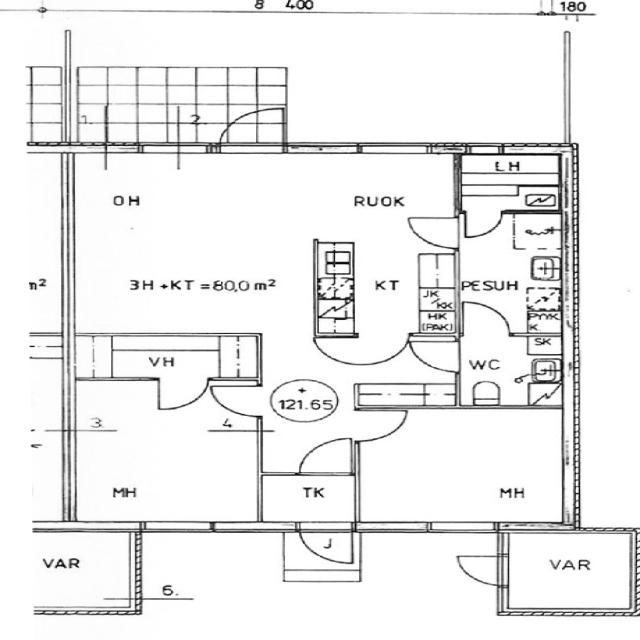door: (148, 378, 264, 417), (309, 331, 400, 369), (294, 526, 358, 568), (404, 333, 465, 375), (296, 434, 354, 476), (401, 213, 465, 251), (456, 298, 514, 338), (208, 381, 266, 421), (153, 375, 213, 413), (352, 407, 413, 442), (452, 551, 509, 587), (459, 208, 508, 240)
window: (137, 519, 215, 534), (262, 469, 300, 478)
zone: (65, 151, 460, 332), (70, 379, 261, 526), (354, 405, 570, 528), (456, 214, 566, 336), (501, 531, 640, 613), (74, 334, 257, 381), (35, 530, 136, 614), (458, 335, 564, 408), (256, 473, 357, 528), (456, 183, 563, 214), (456, 155, 561, 186), (351, 381, 464, 409)
